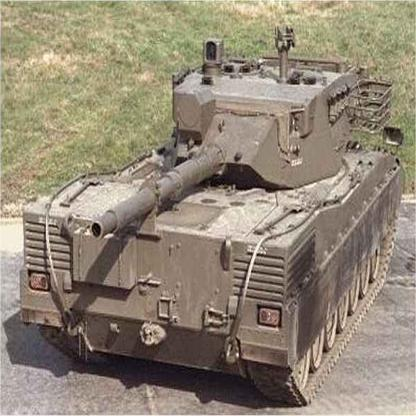Tank: (20, 25, 408, 408)
